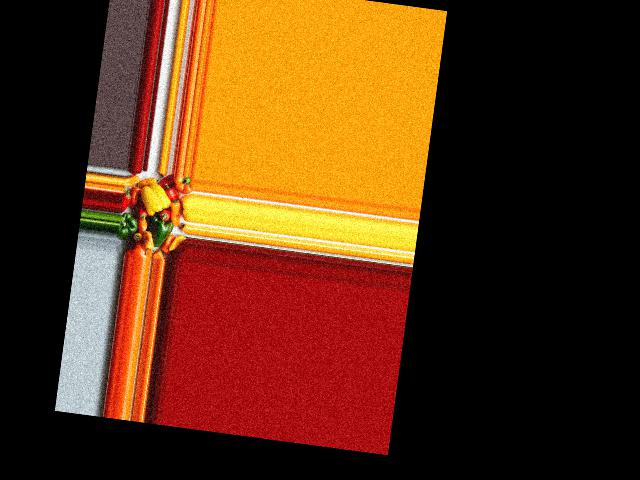bell_pepper: (119, 188, 134, 212)
